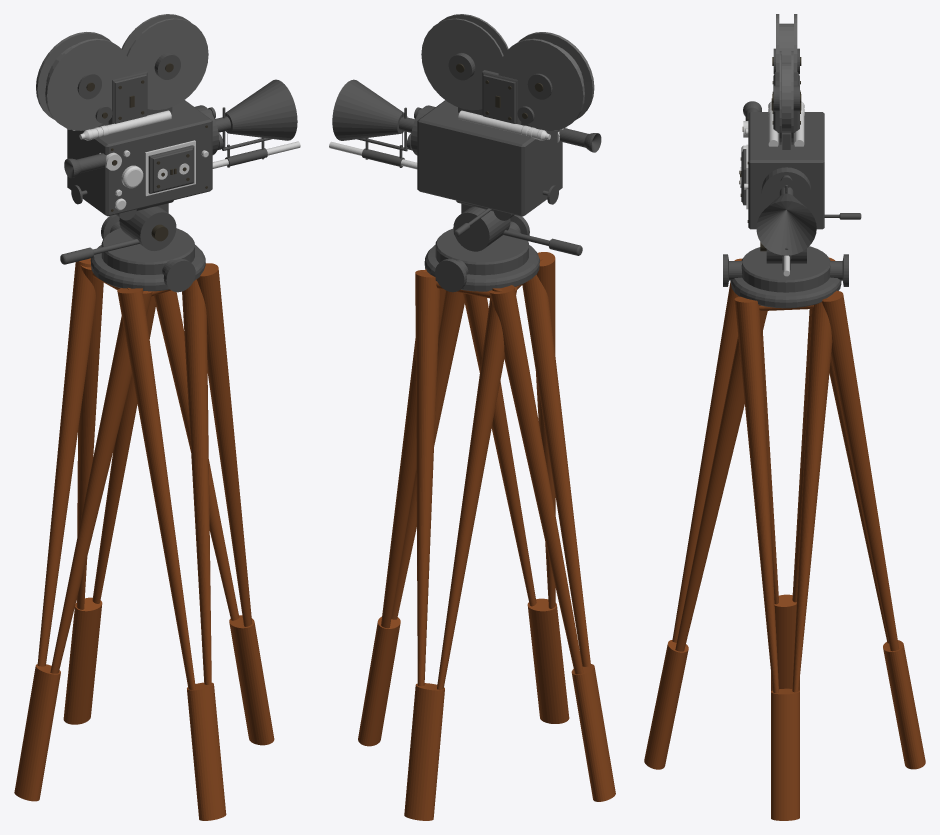
File: camara.fbx
The picture shows the model from 3 angles, left to right: view 1: azimuth 30°, elevation 25°; view 2: azimuth 150°, elevation 25°; view 3: azimuth 270°, elevation 25°; orthographic projection. The views are drawn at different scales.
Parts seen in each view (by area): view 1: legs_Cylinder.060, main_body_Cube.001, rills_Cylinder.001, nuts_Cylinder.030, lense_Cylinder.002, Cube.003_Cube.004, buttons_Cylinder.047, Cylinder.015, screws_Cube.005; view 2: legs_Cylinder.060, main_body_Cube.001, rills_Cylinder.001, nuts_Cylinder.030, lense_Cylinder.002, Cube.003_Cube.004, Cylinder.015; view 3: legs_Cylinder.060, main_body_Cube.001, lense_Cylinder.002, nuts_Cylinder.030, rills_Cylinder.001, Cube.003_Cube.004, Cylinder.015.
Part boxes in pixels (box(x1,y1,x2,y2)): legs_Cylinder.060: box(14, 258, 274, 820); main_body_Cube.001: box(60, 100, 271, 291); rills_Cylinder.001: box(36, 14, 208, 130); nuts_Cylinder.030: box(71, 52, 218, 292); lense_Cylinder.002: box(64, 79, 297, 178); Cube.003_Cube.004: box(108, 70, 194, 193); buttons_Cylinder.047: box(99, 140, 208, 210); Cylinder.015: box(66, 110, 171, 140); screws_Cube.005: box(86, 63, 207, 241); legs_Cylinder.060: box(358, 252, 615, 820); main_body_Cube.001: box(357, 100, 582, 291); rills_Cylinder.001: box(421, 14, 594, 130); nuts_Cylinder.030: box(411, 53, 558, 292); lense_Cylinder.002: box(332, 79, 601, 152); Cube.003_Cube.004: box(482, 70, 521, 124); Cylinder.015: box(458, 110, 563, 140); legs_Cylinder.060: box(644, 257, 925, 820); main_body_Cube.001: box(730, 112, 861, 308); lense_Cylinder.002: box(743, 101, 816, 255); nuts_Cylinder.030: box(723, 48, 848, 286); rills_Cylinder.001: box(776, 14, 797, 144); Cube.003_Cube.004: box(741, 71, 799, 205); Cylinder.015: box(768, 101, 804, 146).
Size of the model in its own units: 61.78 by 156 by 55.54.
